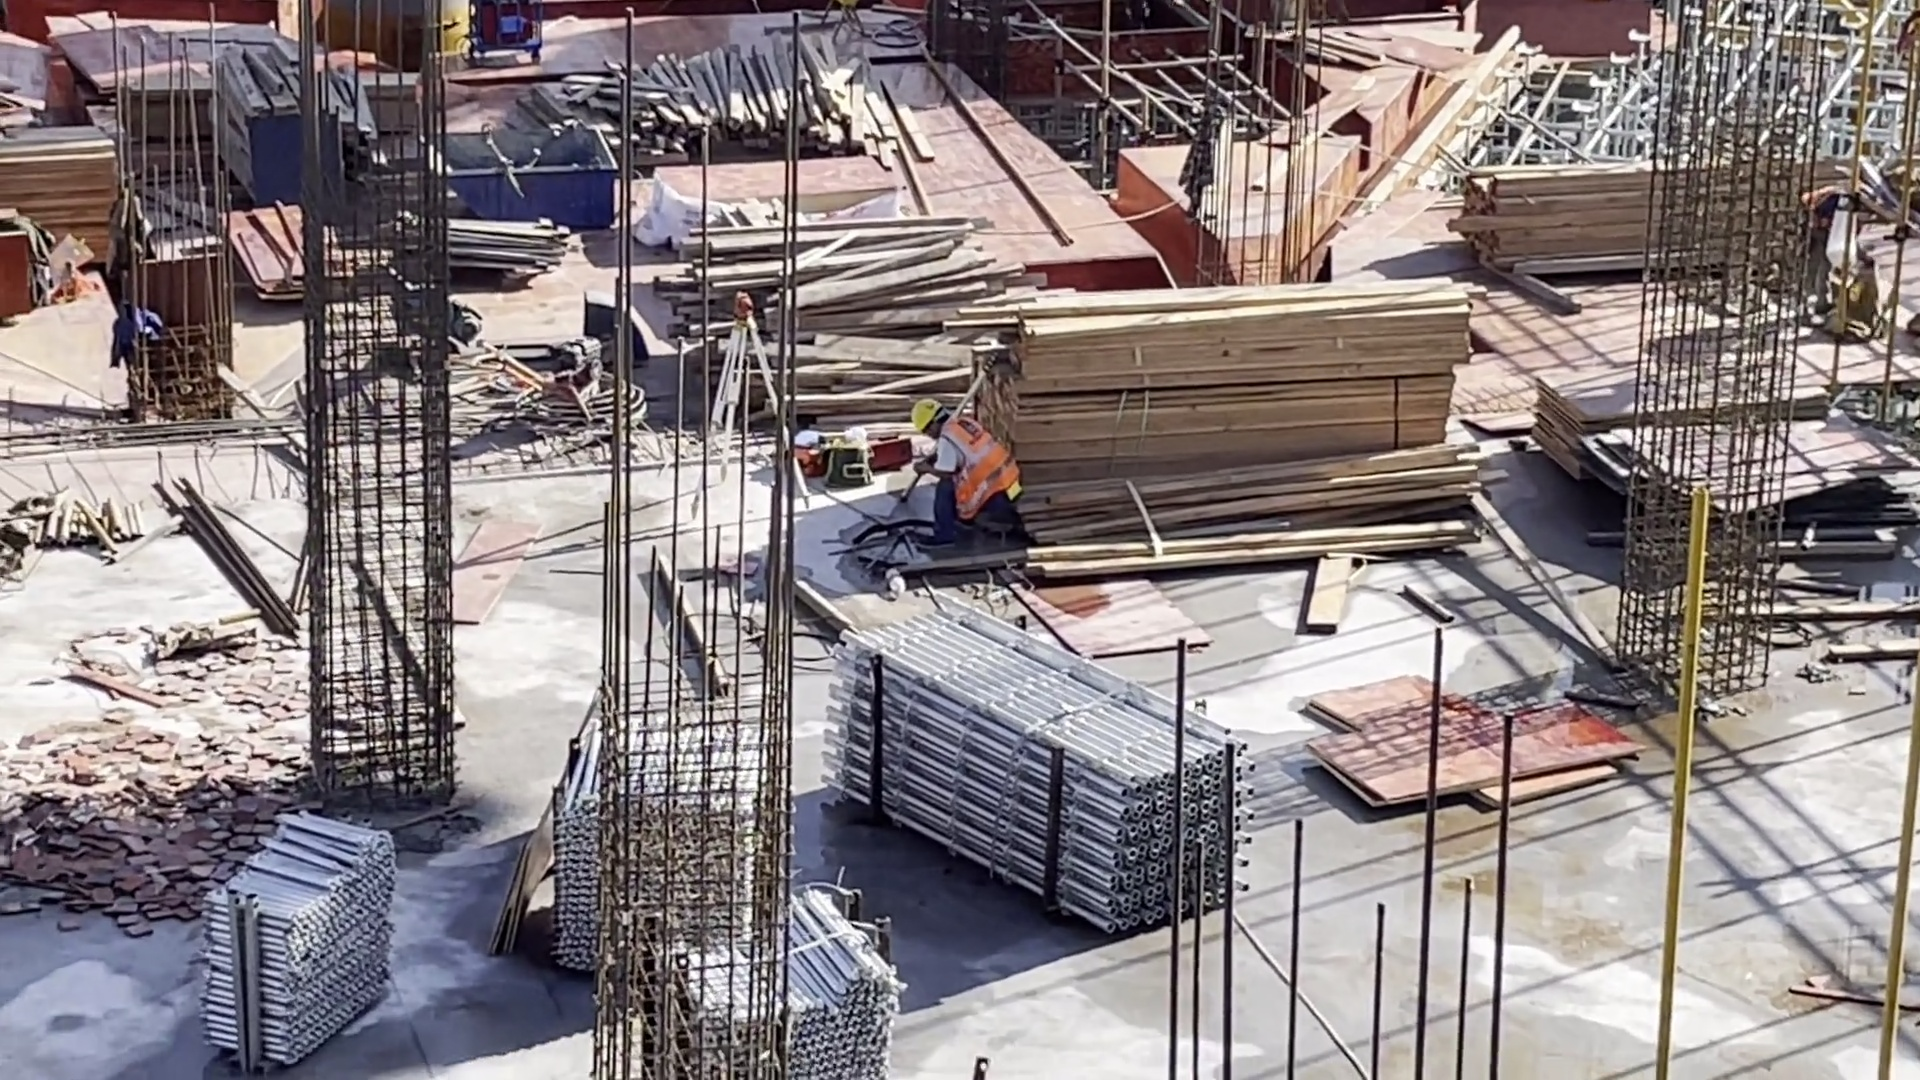board: (1535, 361, 1906, 523)
helmet: (911, 399, 944, 440)
hopper: (413, 129, 617, 232)
person: (908, 395, 1025, 552), (1801, 176, 1858, 326)
scaffold: (824, 594, 1262, 937), (554, 689, 902, 1079), (199, 813, 395, 1063)
vest: (944, 419, 1020, 520)
wood: (940, 271, 1491, 579), (647, 207, 1021, 442), (588, 37, 940, 174), (1446, 149, 1783, 282), (1, 116, 126, 267)
